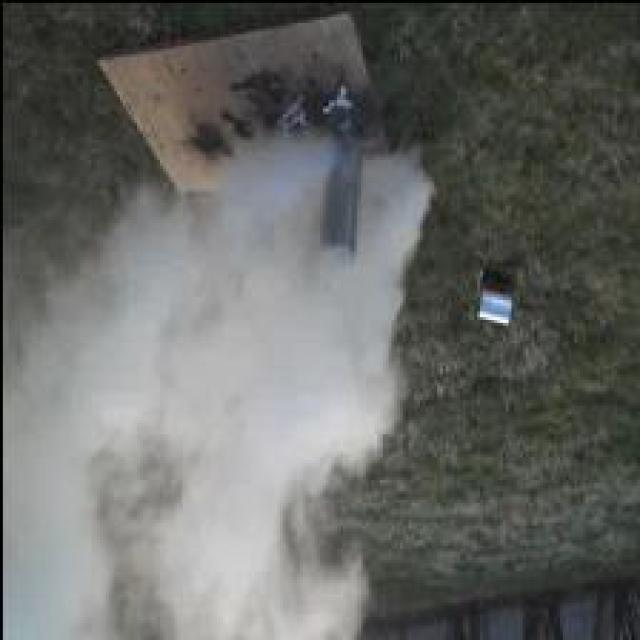Smoke: (4, 124, 434, 640)
